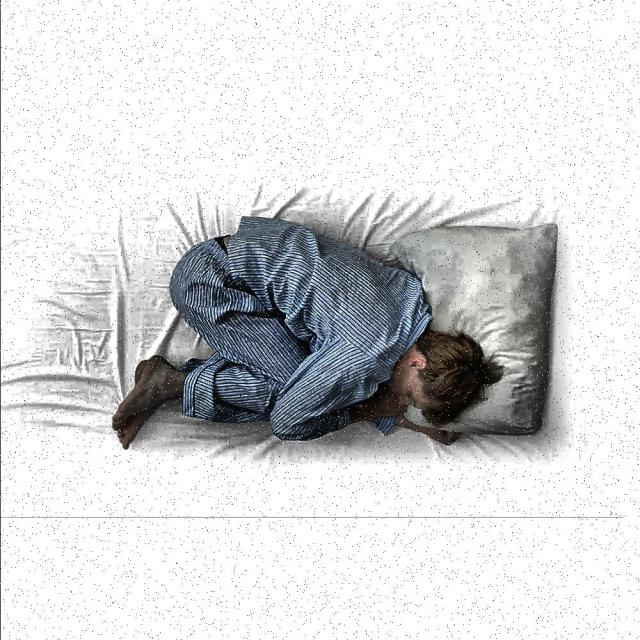Not_Supine: (111, 218, 504, 448)
